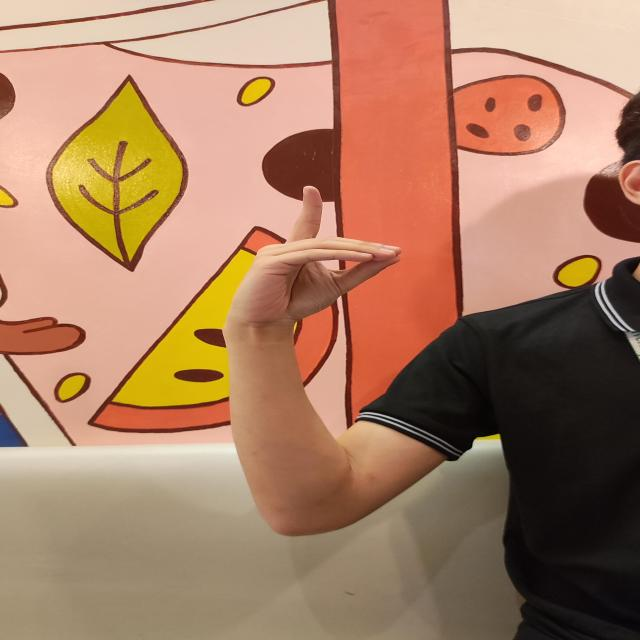D: (232, 184, 403, 324)
